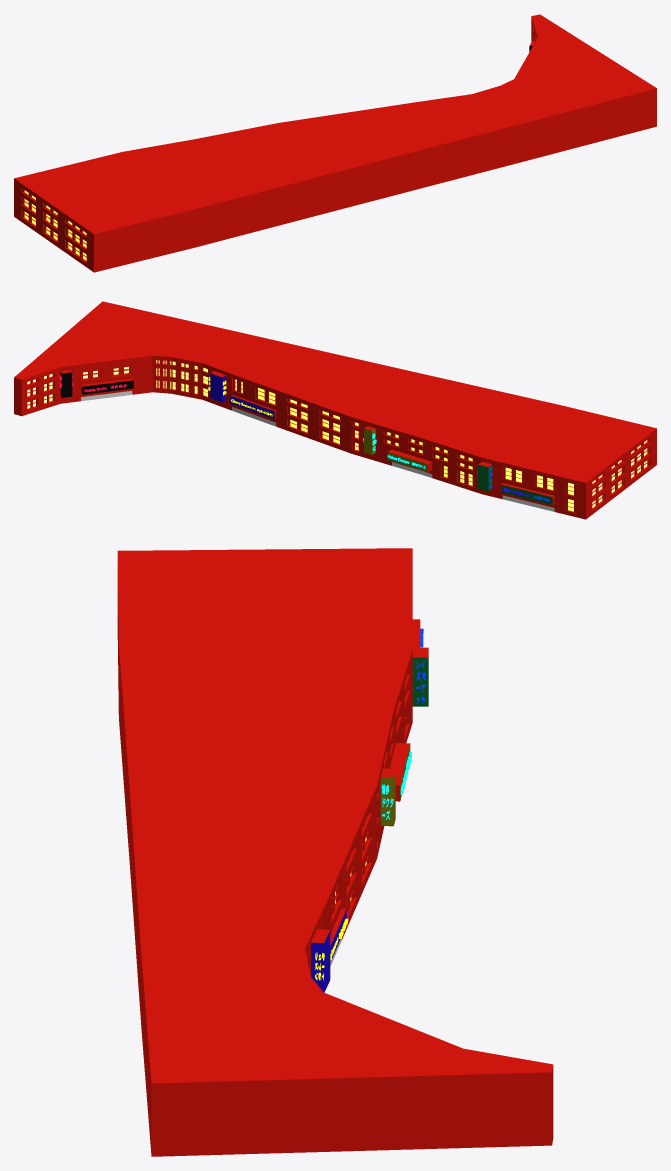
The model's file is hakata_complex.fbx.
3 views of the same model, one above another, from view 1: azimuth 30°, elevation 25°; view 2: azimuth 150°, elevation 25°; view 3: azimuth 270°, elevation 25° (orthographic). The views are drawn at different scales.
Parts seen in each view (by area): view 1: Plane; view 2: Plane; view 3: Plane.
Part boxes in pixels (x1=…): Plane: x1=14, y1=14, x2=656, y2=272; Plane: x1=14, y1=301, x2=656, y2=519; Plane: x1=117, y1=548, x2=553, y2=1156.
Bounding box in the file's own units: 3135 × 200 × 1078.
